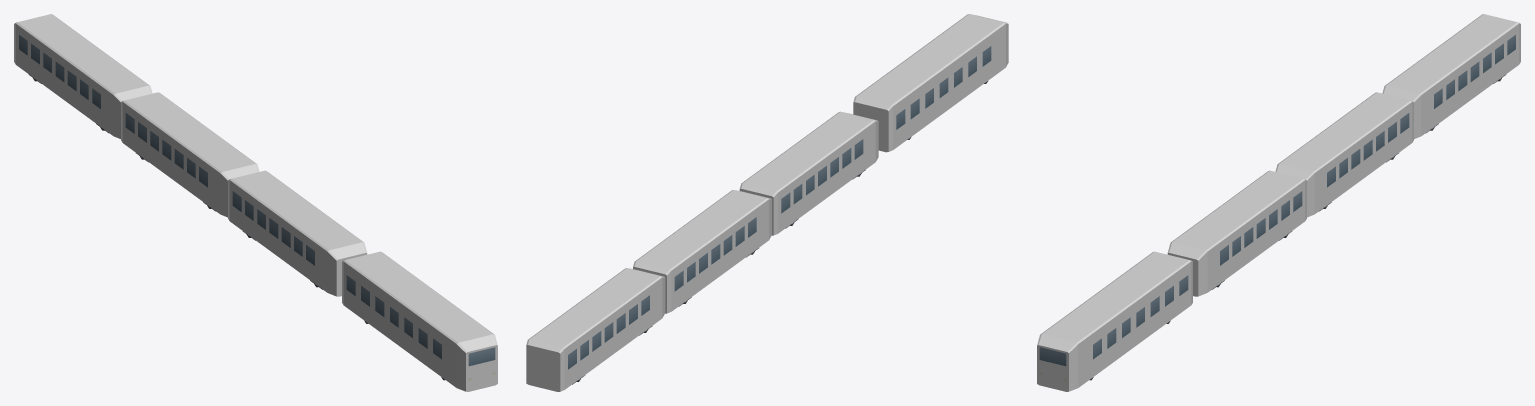
Rendered from train.glb.
3 renders of one model, left to right at view 1: azimuth 30°, elevation 25°; view 2: azimuth 150°, elevation 25°; view 3: azimuth 330°, elevation 25°, orthographic.
Parts seen in each view (by area): view 1: body; view 2: body; view 3: body.
Boxes of the visible parts, <box> form: body: <box>14,14,497,391</box>; body: <box>526,14,1008,391</box>; body: <box>1037,14,1520,391</box>.
Bounding box in the file's own units: 2.91 × 3.6 × 59.03.
